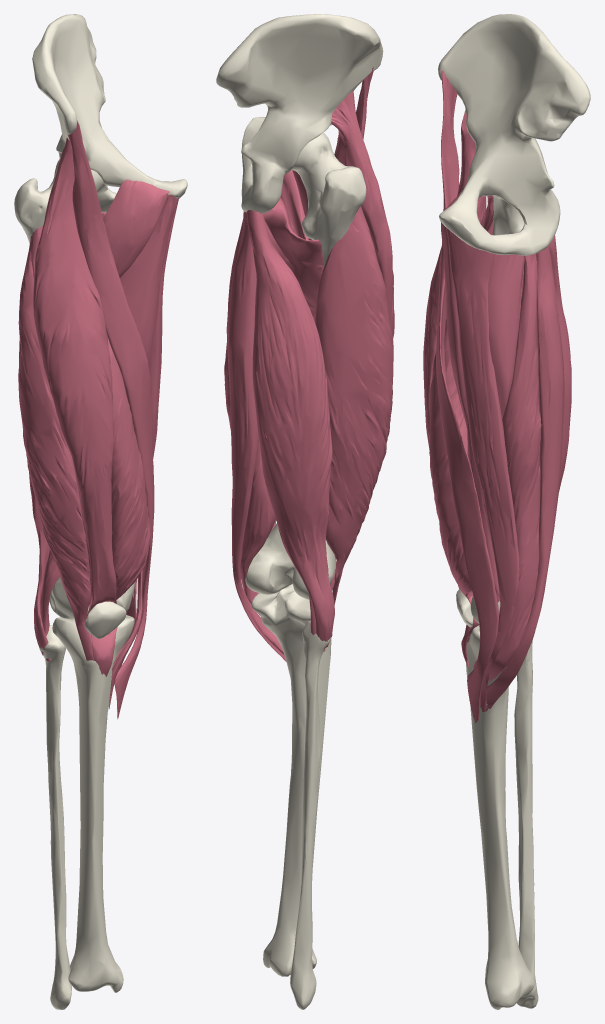
File: thigh.glb
3 renders of one model, left to right at view 1: azimuth 30°, elevation 25°; view 2: azimuth 150°, elevation 25°; view 3: azimuth 270°, elevation 25°, orthographic.
Visible parts, largest first — view 1: rectus-femoris, vastus-lateralis, tibia, sartorius, hip-bone, vastus-medialis, fibula, pectineus, adductor-longus, femur, gracilis, biceps-femoris-long-head (+2 smaller); view 2: biceps-femoris-long-head, vastus-lateralis, hip-bone, tibia, semitendinosus, femur, fibula, rectus-femoris, semimembranosus, adductor-magnus, adductor-brevis, sartorius; view 3: hip-bone, gracilis, tibia, semimembranosus, sartorius, semitendinosus, fibula, adductor-magnus, vastus-medialis, rectus-femoris, adductor-longus, biceps-femoris-long-head (+2 smaller).
Part boxes in pixels (box(x1,y1,x2,y2)): rectus-femoris: box(33, 138, 117, 676); vastus-lateralis: box(18, 225, 94, 660); tibia: box(52, 615, 134, 992); sartorius: box(67, 120, 154, 719); hip-bone: box(32, 14, 187, 212); vastus-medialis: box(107, 337, 150, 634); fibula: box(39, 625, 71, 1009); pectineus: box(103, 179, 169, 277); adductor-longus: box(120, 194, 176, 364); femur: box(14, 157, 134, 619); gracilis: box(109, 197, 178, 708); biceps-femoris-long-head: box(27, 461, 49, 655); biceps-femoris-long-head: box(246, 210, 334, 648); vastus-lateralis: box(314, 206, 393, 604); hip-bone: box(216, 14, 383, 213); tibia: box(251, 584, 331, 976); semitendinosus: box(227, 211, 286, 661); femur: box(245, 132, 366, 599); fibula: box(290, 620, 331, 1009); rectus-femoris: box(331, 91, 394, 338); semimembranosus: box(224, 219, 275, 615); adductor-magnus: box(263, 197, 323, 530); adductor-brevis: box(280, 170, 308, 239); sartorius: box(356, 67, 373, 139); hip-bone: box(438, 14, 590, 255); gracilis: box(446, 227, 519, 712); tibia: box(466, 625, 534, 1009); semimembranosus: box(488, 253, 541, 681); sartorius: box(436, 70, 498, 723); semitendinosus: box(485, 245, 564, 711); fibula: box(514, 640, 538, 1008); adductor-magnus: box(467, 254, 524, 602); vastus-medialis: box(429, 319, 472, 639); rectus-femoris: box(423, 110, 486, 667); adductor-longus: box(441, 222, 467, 428); biceps-femoris-long-head: box(521, 235, 571, 491).
Size of the model in its own units: 0.1568 by 0.9831 by 0.1513.
